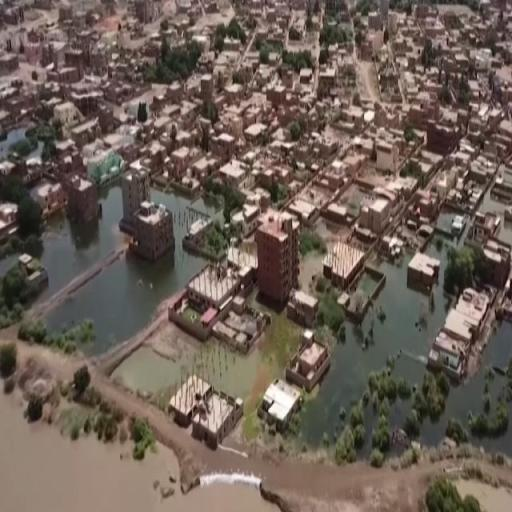flood: (275, 234, 457, 456), (0, 382, 280, 512), (45, 188, 206, 354), (112, 317, 300, 412), (421, 322, 512, 444), (41, 186, 128, 299), (471, 402, 512, 456)
house: (430, 284, 498, 382), (255, 217, 299, 300), (188, 257, 240, 315), (168, 372, 214, 436), (128, 200, 172, 262), (323, 228, 366, 291), (285, 336, 332, 390), (260, 377, 306, 432), (67, 173, 100, 233), (119, 169, 152, 222), (406, 247, 443, 292), (288, 281, 319, 332), (32, 176, 66, 222), (1, 198, 21, 251)
